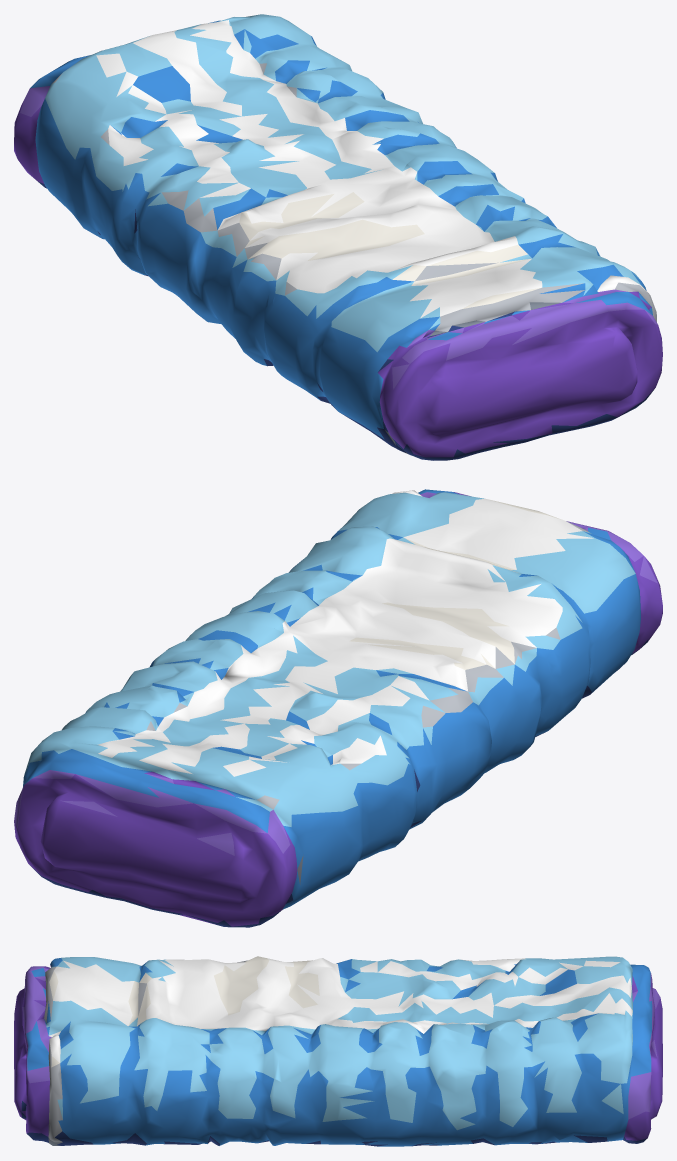
The model's file is SM_futon_rolled.glb.
3 renders of one model, top to bottom at view 1: azimuth 30°, elevation 25°; view 2: azimuth 150°, elevation 25°; view 3: azimuth 270°, elevation 25°, orthographic. The views are drawn at different scales.
Parts seen in each view (by area): view 1: SM_futon_rolled; view 2: SM_futon_rolled; view 3: SM_futon_rolled.
Boxes of the visible parts, x1,y1,x2,y2 form: SM_futon_rolled: (14, 14, 662, 460); SM_futon_rolled: (14, 489, 662, 927); SM_futon_rolled: (14, 956, 662, 1146).
Bounding box in the file's own units: 0.6341 × 0.3 × 1.42.
1 material, 1 textured.
